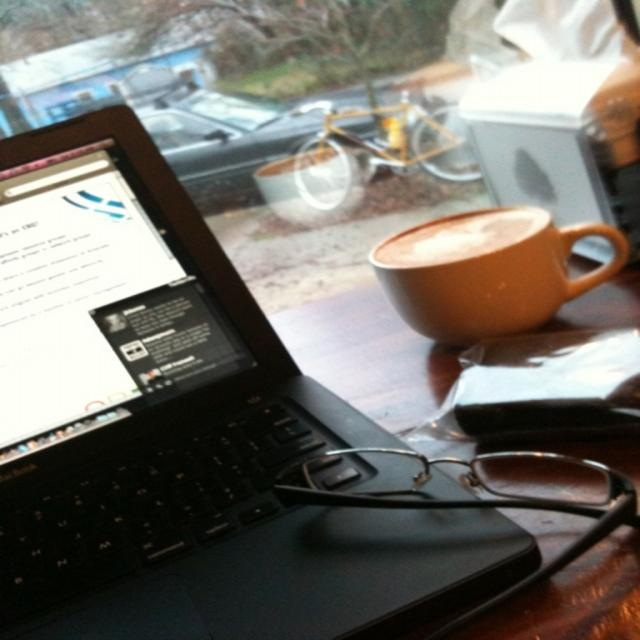Coffee: (372, 209, 540, 262)
